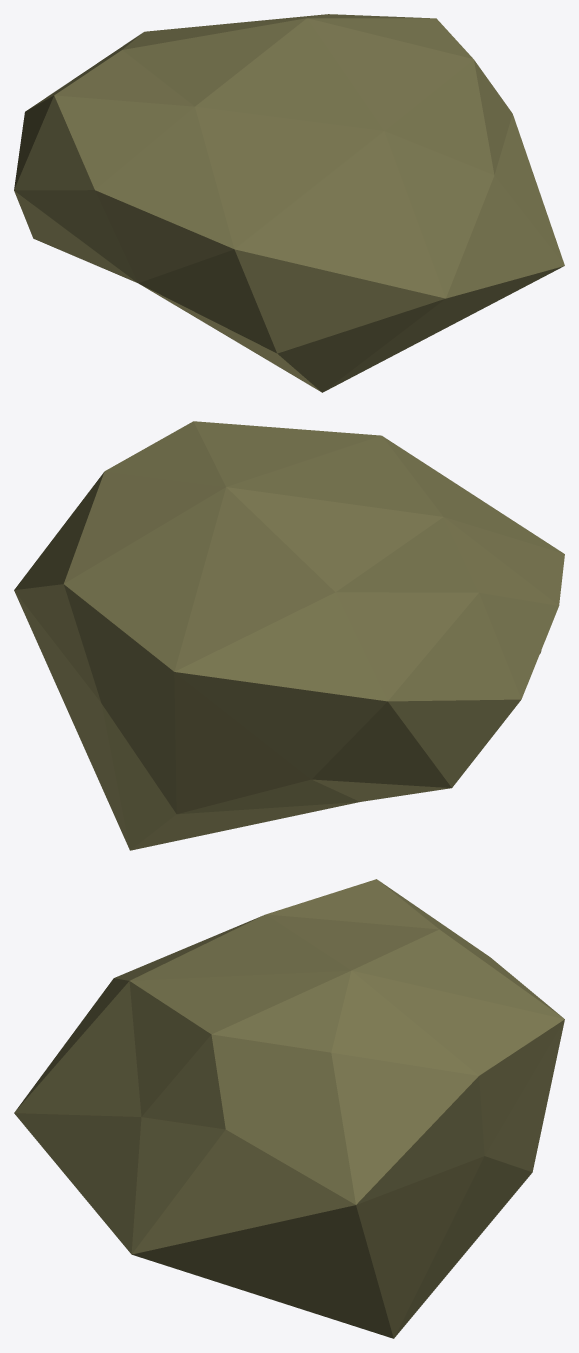
The model's file is Stein_003.gltf.
3 renders of one model, top to bottom at view 1: azimuth 30°, elevation 25°; view 2: azimuth 150°, elevation 25°; view 3: azimuth 270°, elevation 25°, orthographic. The views are drawn at different scales.
Visible parts, largest first — view 1: Stein.003-col; view 2: Stein.003-col; view 3: Stein.003-col.
Boxes of the visible parts, box(x1,y1,x2,y2) form: Stein.003-col: box(14, 14, 564, 392); Stein.003-col: box(14, 421, 564, 850); Stein.003-col: box(14, 879, 564, 1338).
Bounding box in the file's own units: 2.84 × 1.9 × 2.83.
